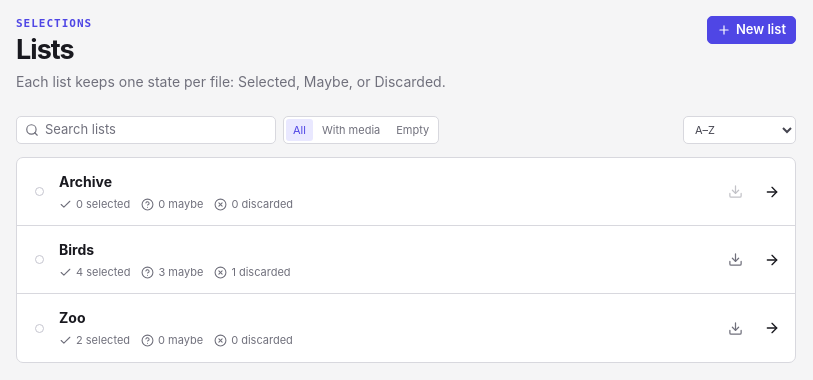
Test: ListsPage › searches, filters, sorts, and clears list results locally
Type "zoo" into the field labelled "Search lists" at (156, 130), box [45,120,267,140]
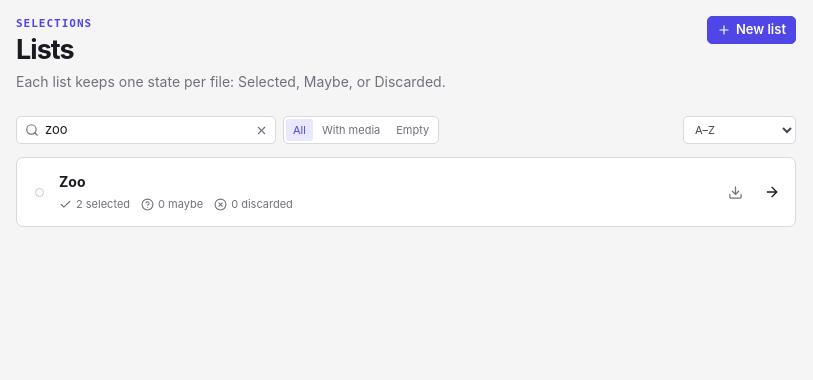
Expected: the text "Zoo" is shown, [59,173,86,190]
Now the link "Archive" is gone
Click the button named "Clear list search" at (261, 130), box [250,119,272,141]
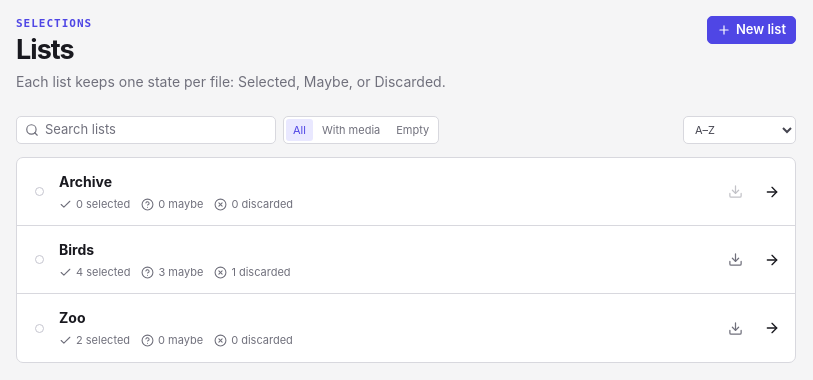
Click the button "Empty" at (413, 130), box [389,119,436,141]
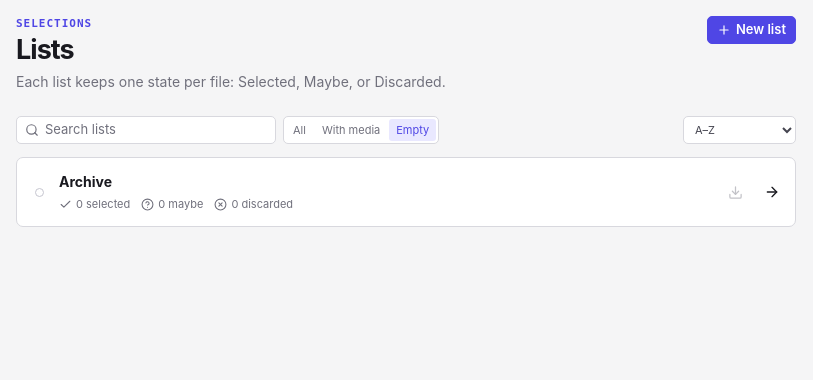
Now the text "Archive" is shown, box [59,173,112,190]
Now the link "Birds" is gone
Select "Most media" in the dropdown named "Sort lists" at (740, 130), box [683,116,796,144]
Click the button "All" at (299, 130), box [286,119,313,141]
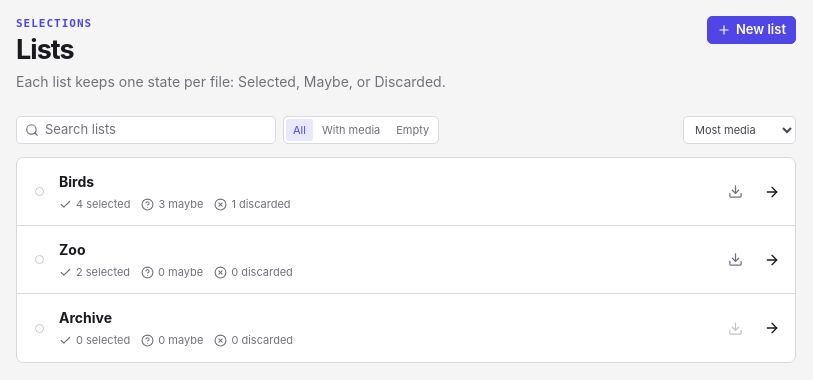
Type "missing" into the field labelled "Search lists" at (156, 130), box [45,120,267,140]
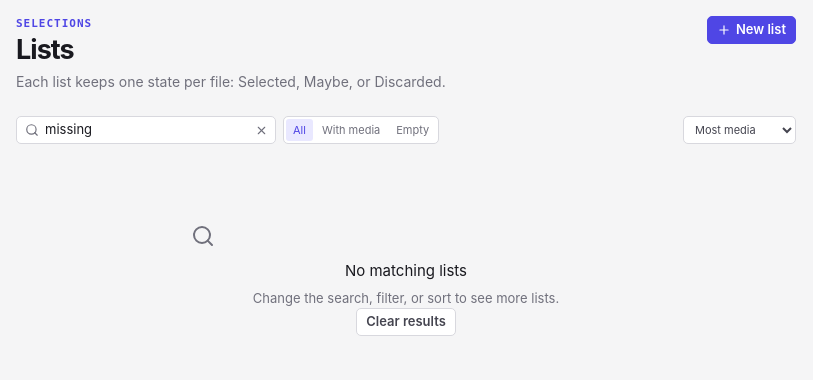
Click the button "Clear results" at (406, 322), box [356,308,456,336]
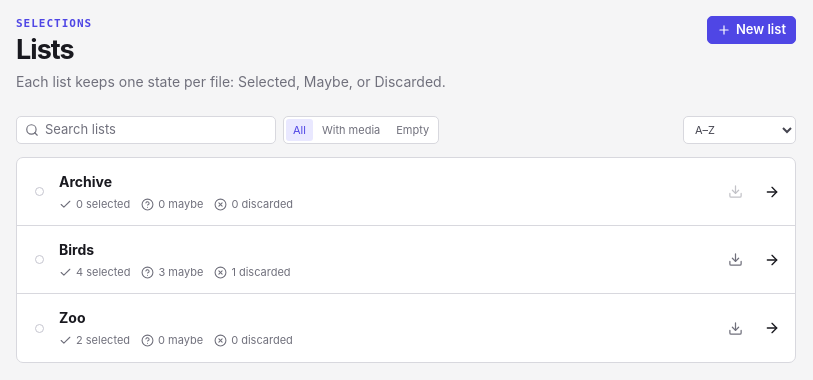
Now the text "Archive" is shown, box [59,173,112,190]
